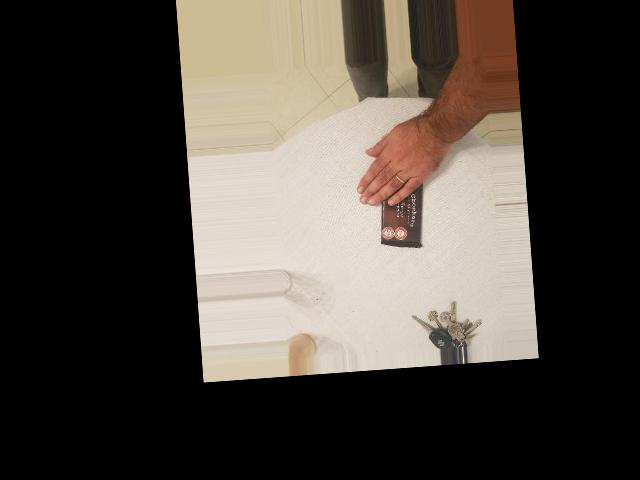chocolate: (367, 139, 433, 254)
